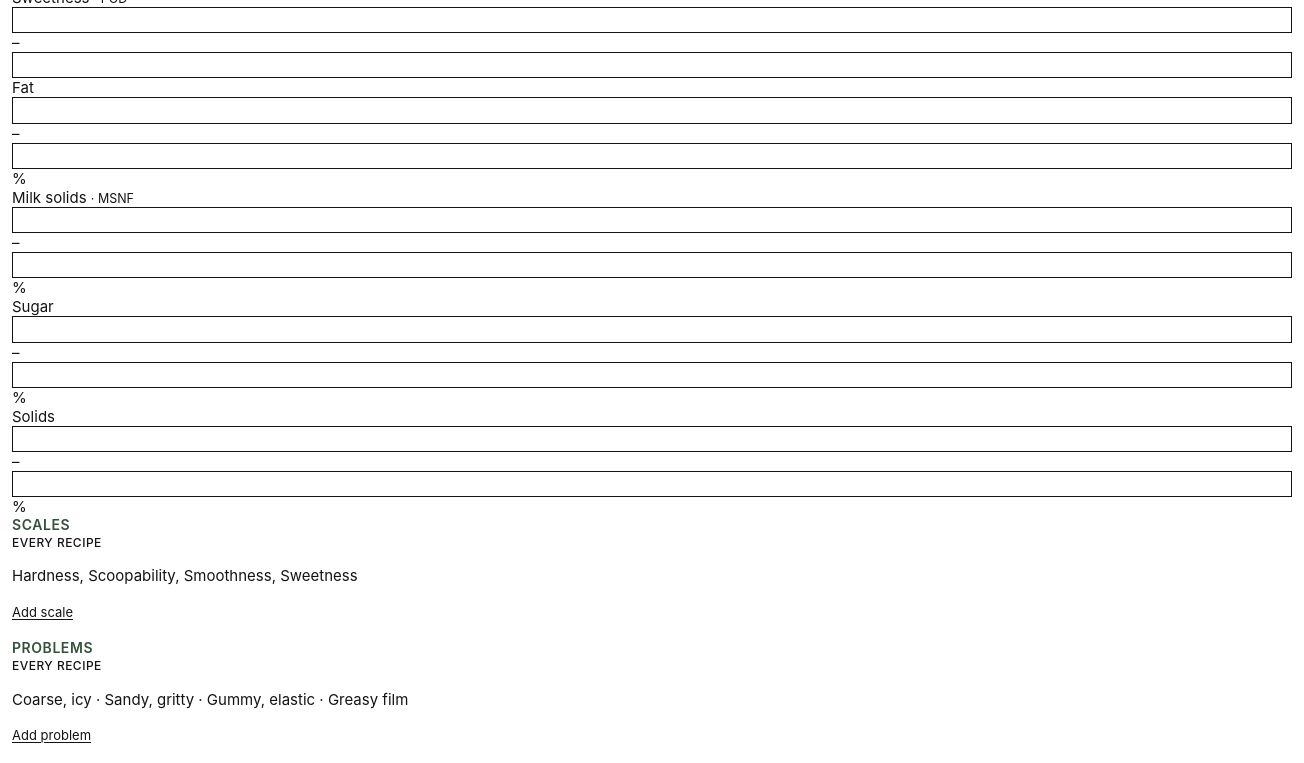
CreationSetup, the Scales and Problems regions (TASTE-01, TASTE-02, decision 12, T-04) › the card has no head: its first row holds the Name field and remove, and the cues are h3
(page scrolled)
What coordinates should you click on to do the following:
click the button with class "mk-add" showing "Add scale"
I would click on:
 (42, 612)
Its box is top-left (12, 600), bottom-right (73, 624).
(page scrolled)
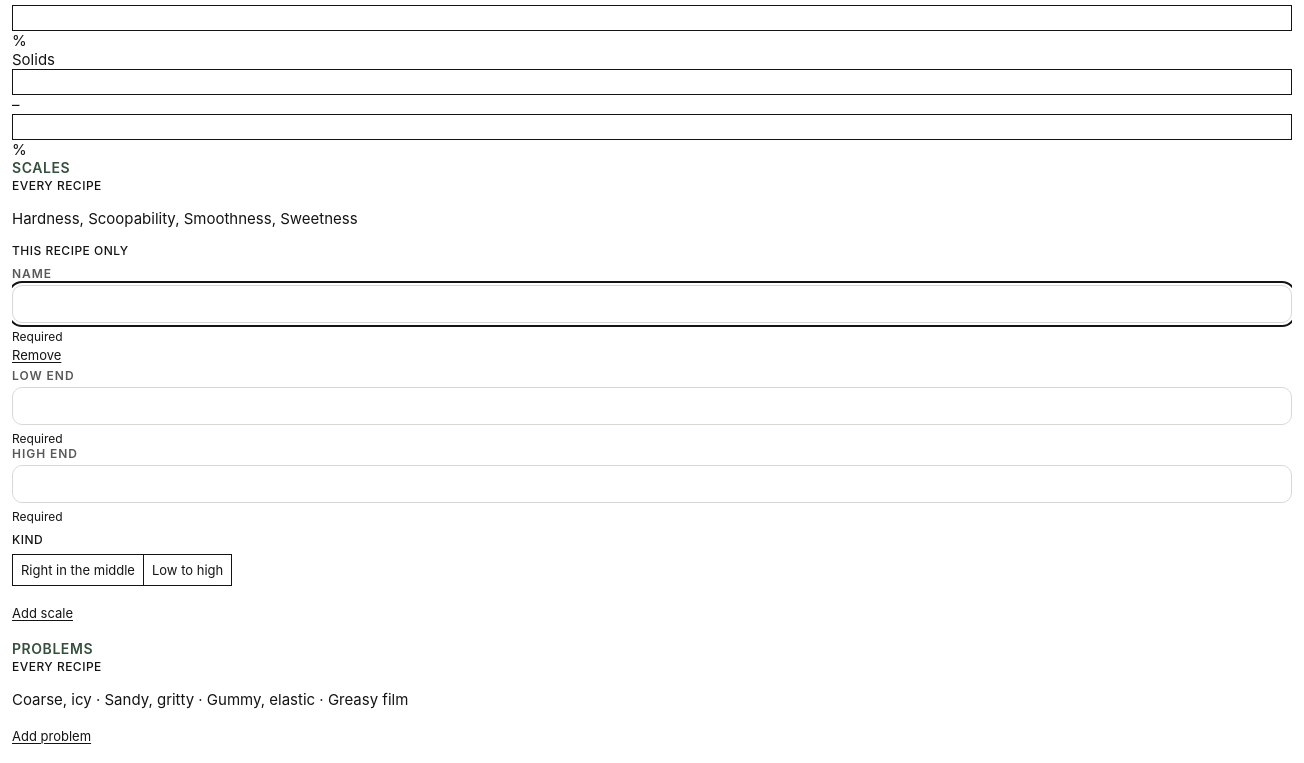
What coordinates should you click on to do the following:
click the button with class "mk-add" showing "Add problem"
I would click on:
 (52, 736)
Its box is top-left (12, 724), bottom-right (91, 748).
(page scrolled)
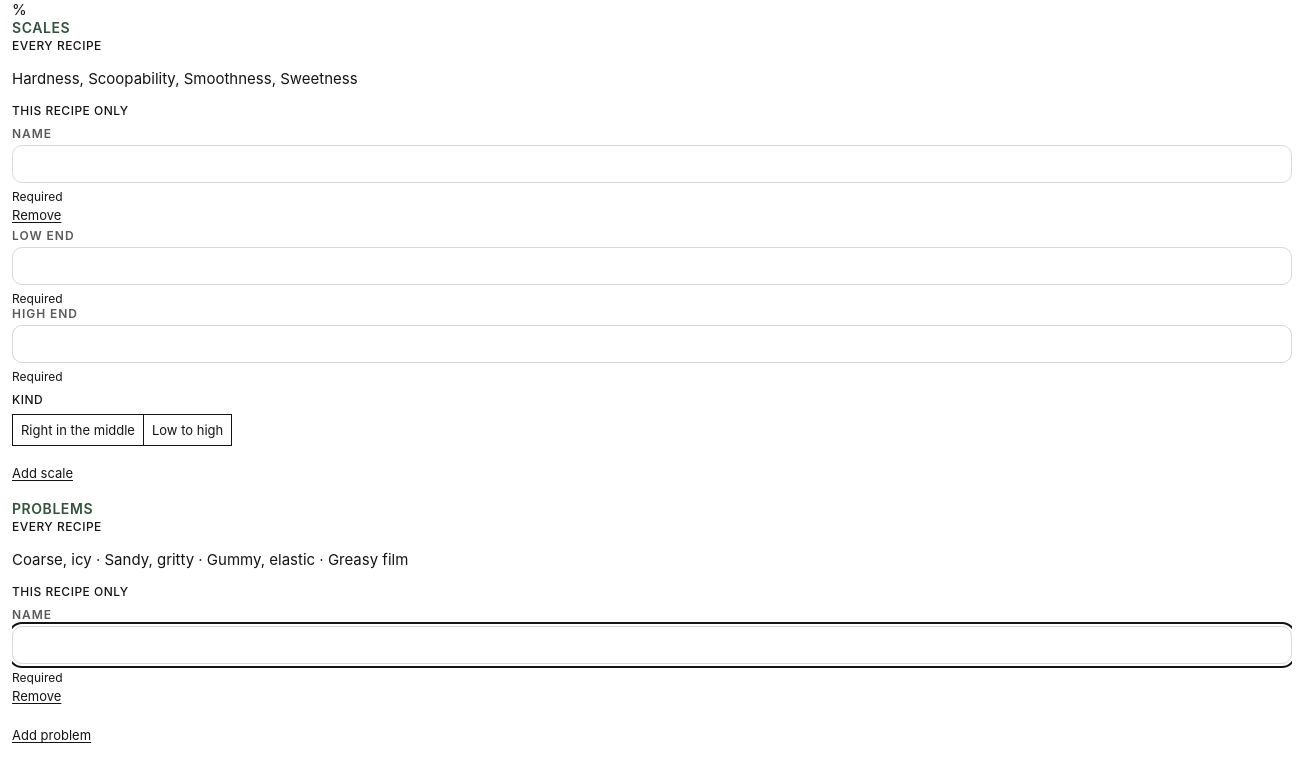
Expected: the text with class "notebook-caption" below "Problems" reads "Name", top-left (12, 607), bottom-right (52, 622)
